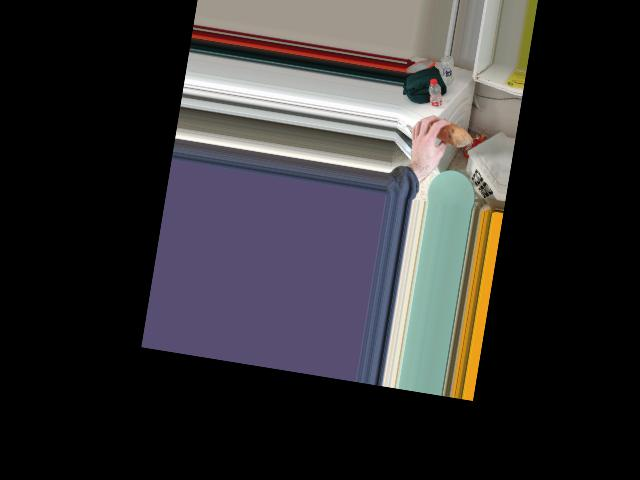sweet_potato: (422, 119, 473, 148)
